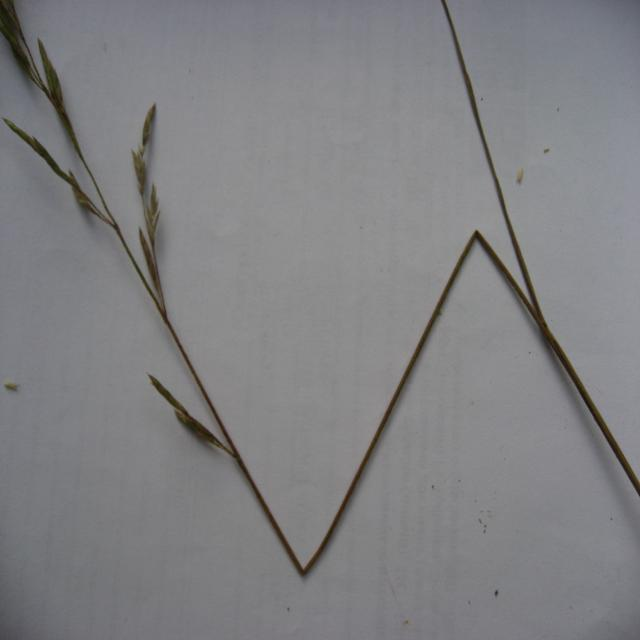wheat-stemrust: (164, 227, 640, 585)
